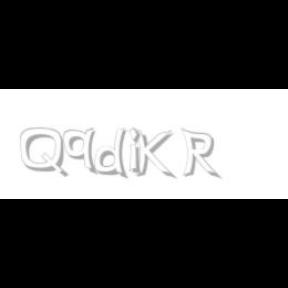K: (133, 128, 173, 180)
Q: (20, 128, 66, 178)
R: (180, 128, 218, 180)
d: (94, 128, 132, 180)
i: (128, 128, 144, 176)
q: (63, 128, 99, 176)
